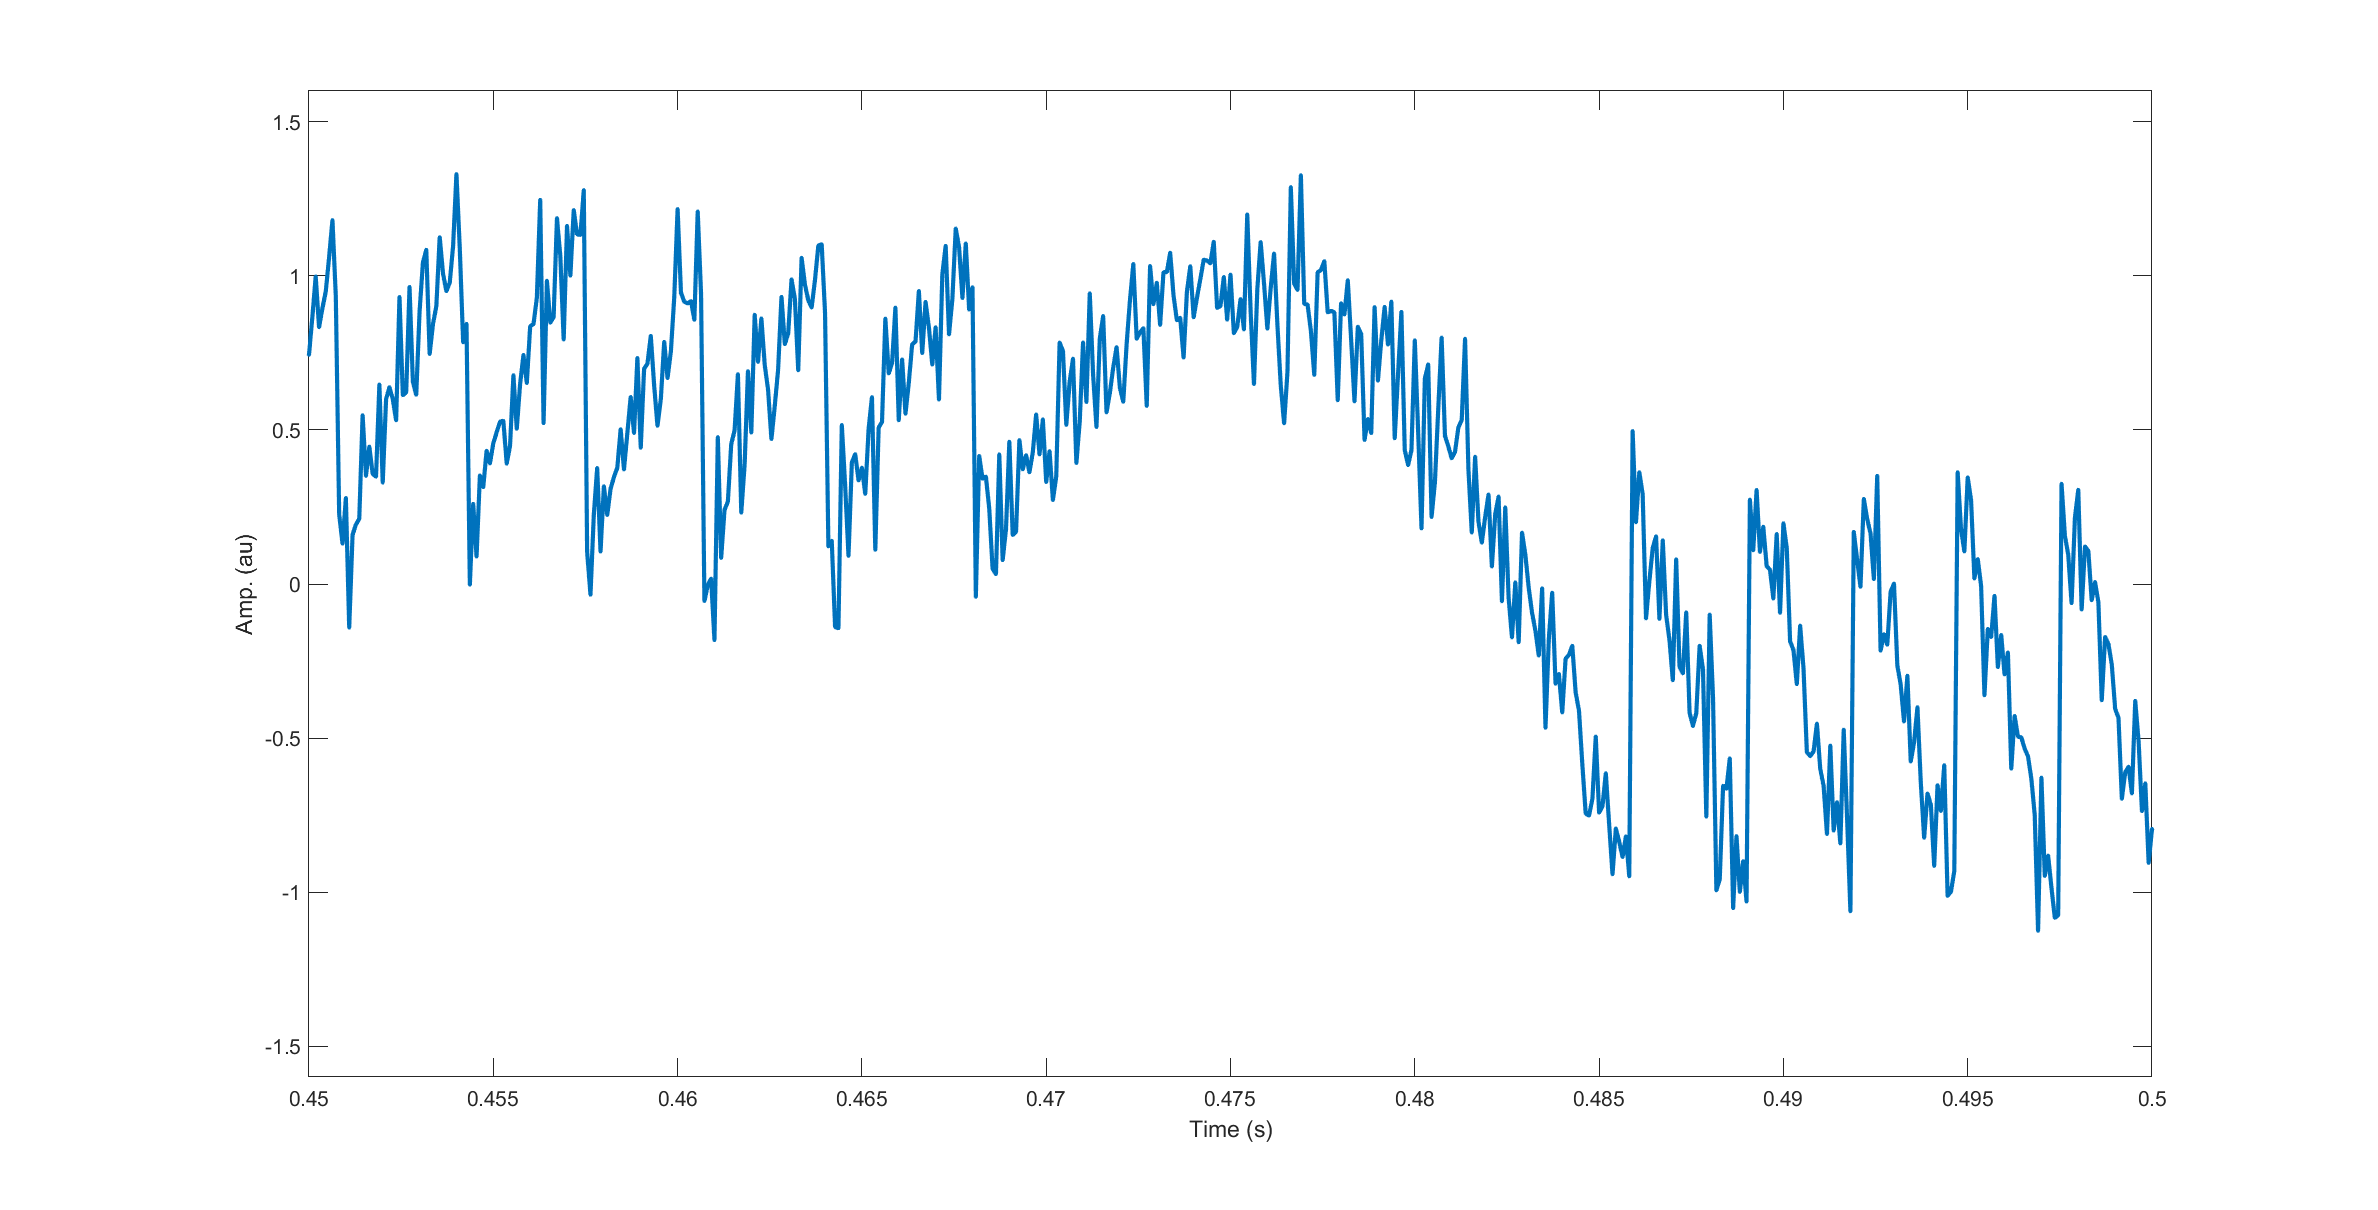negative_fringe: (1613, 412, 1730, 891), (2048, 477, 2140, 911), (1843, 460, 1932, 906), (1941, 451, 2028, 898), (1741, 478, 1827, 898)
positive_fringe: (846, 211, 992, 605), (724, 224, 850, 639), (373, 154, 478, 590), (617, 184, 718, 617), (488, 179, 594, 565)
